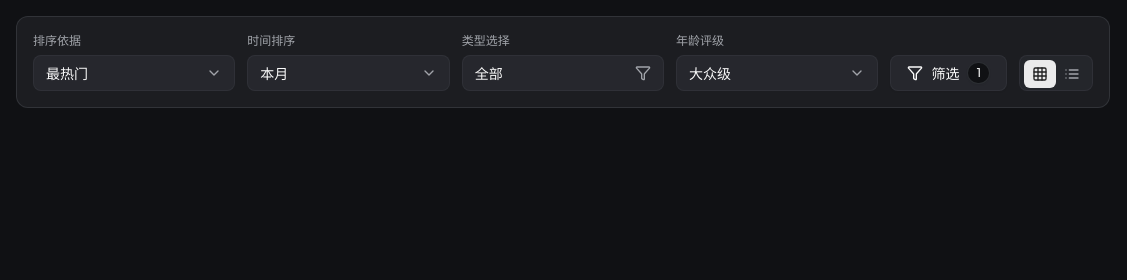
Test: FilterBar advanced-filter status › omits Application from the type choices
Click the button "全部".
click(563, 73)  # box [462, 55, 664, 91]
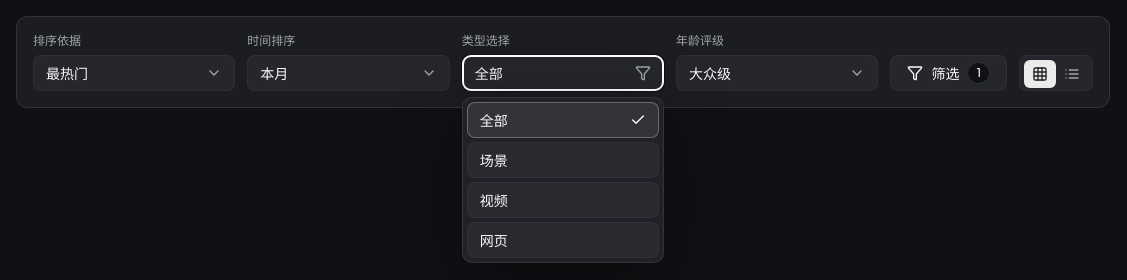
Check: the button "场景" is shown, box [467, 142, 659, 178]
Check: the button "视频" is shown, box [467, 182, 659, 218]
Check: the button "网页" is shown, box [467, 222, 659, 258]
